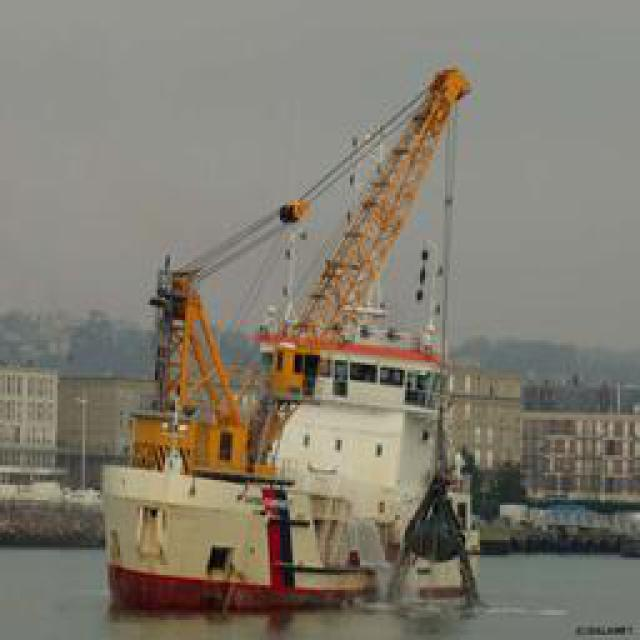Ship: (100, 303, 508, 623)
